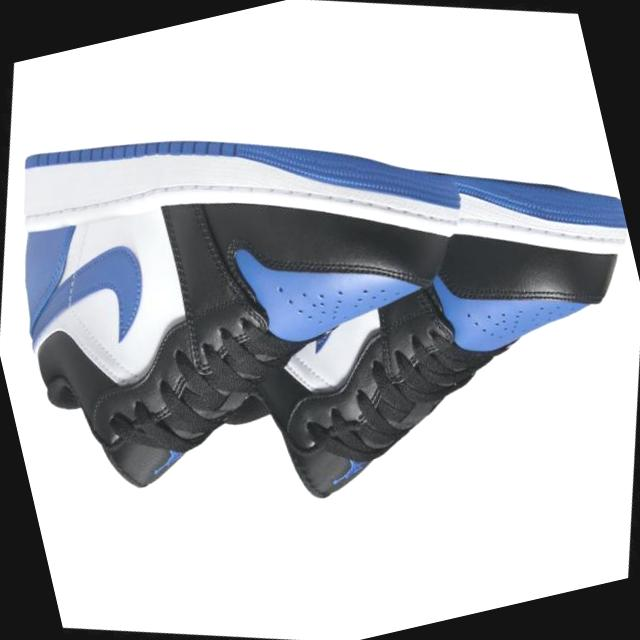nike_original_jordan: (0, 32, 541, 593), (134, 74, 640, 602)
